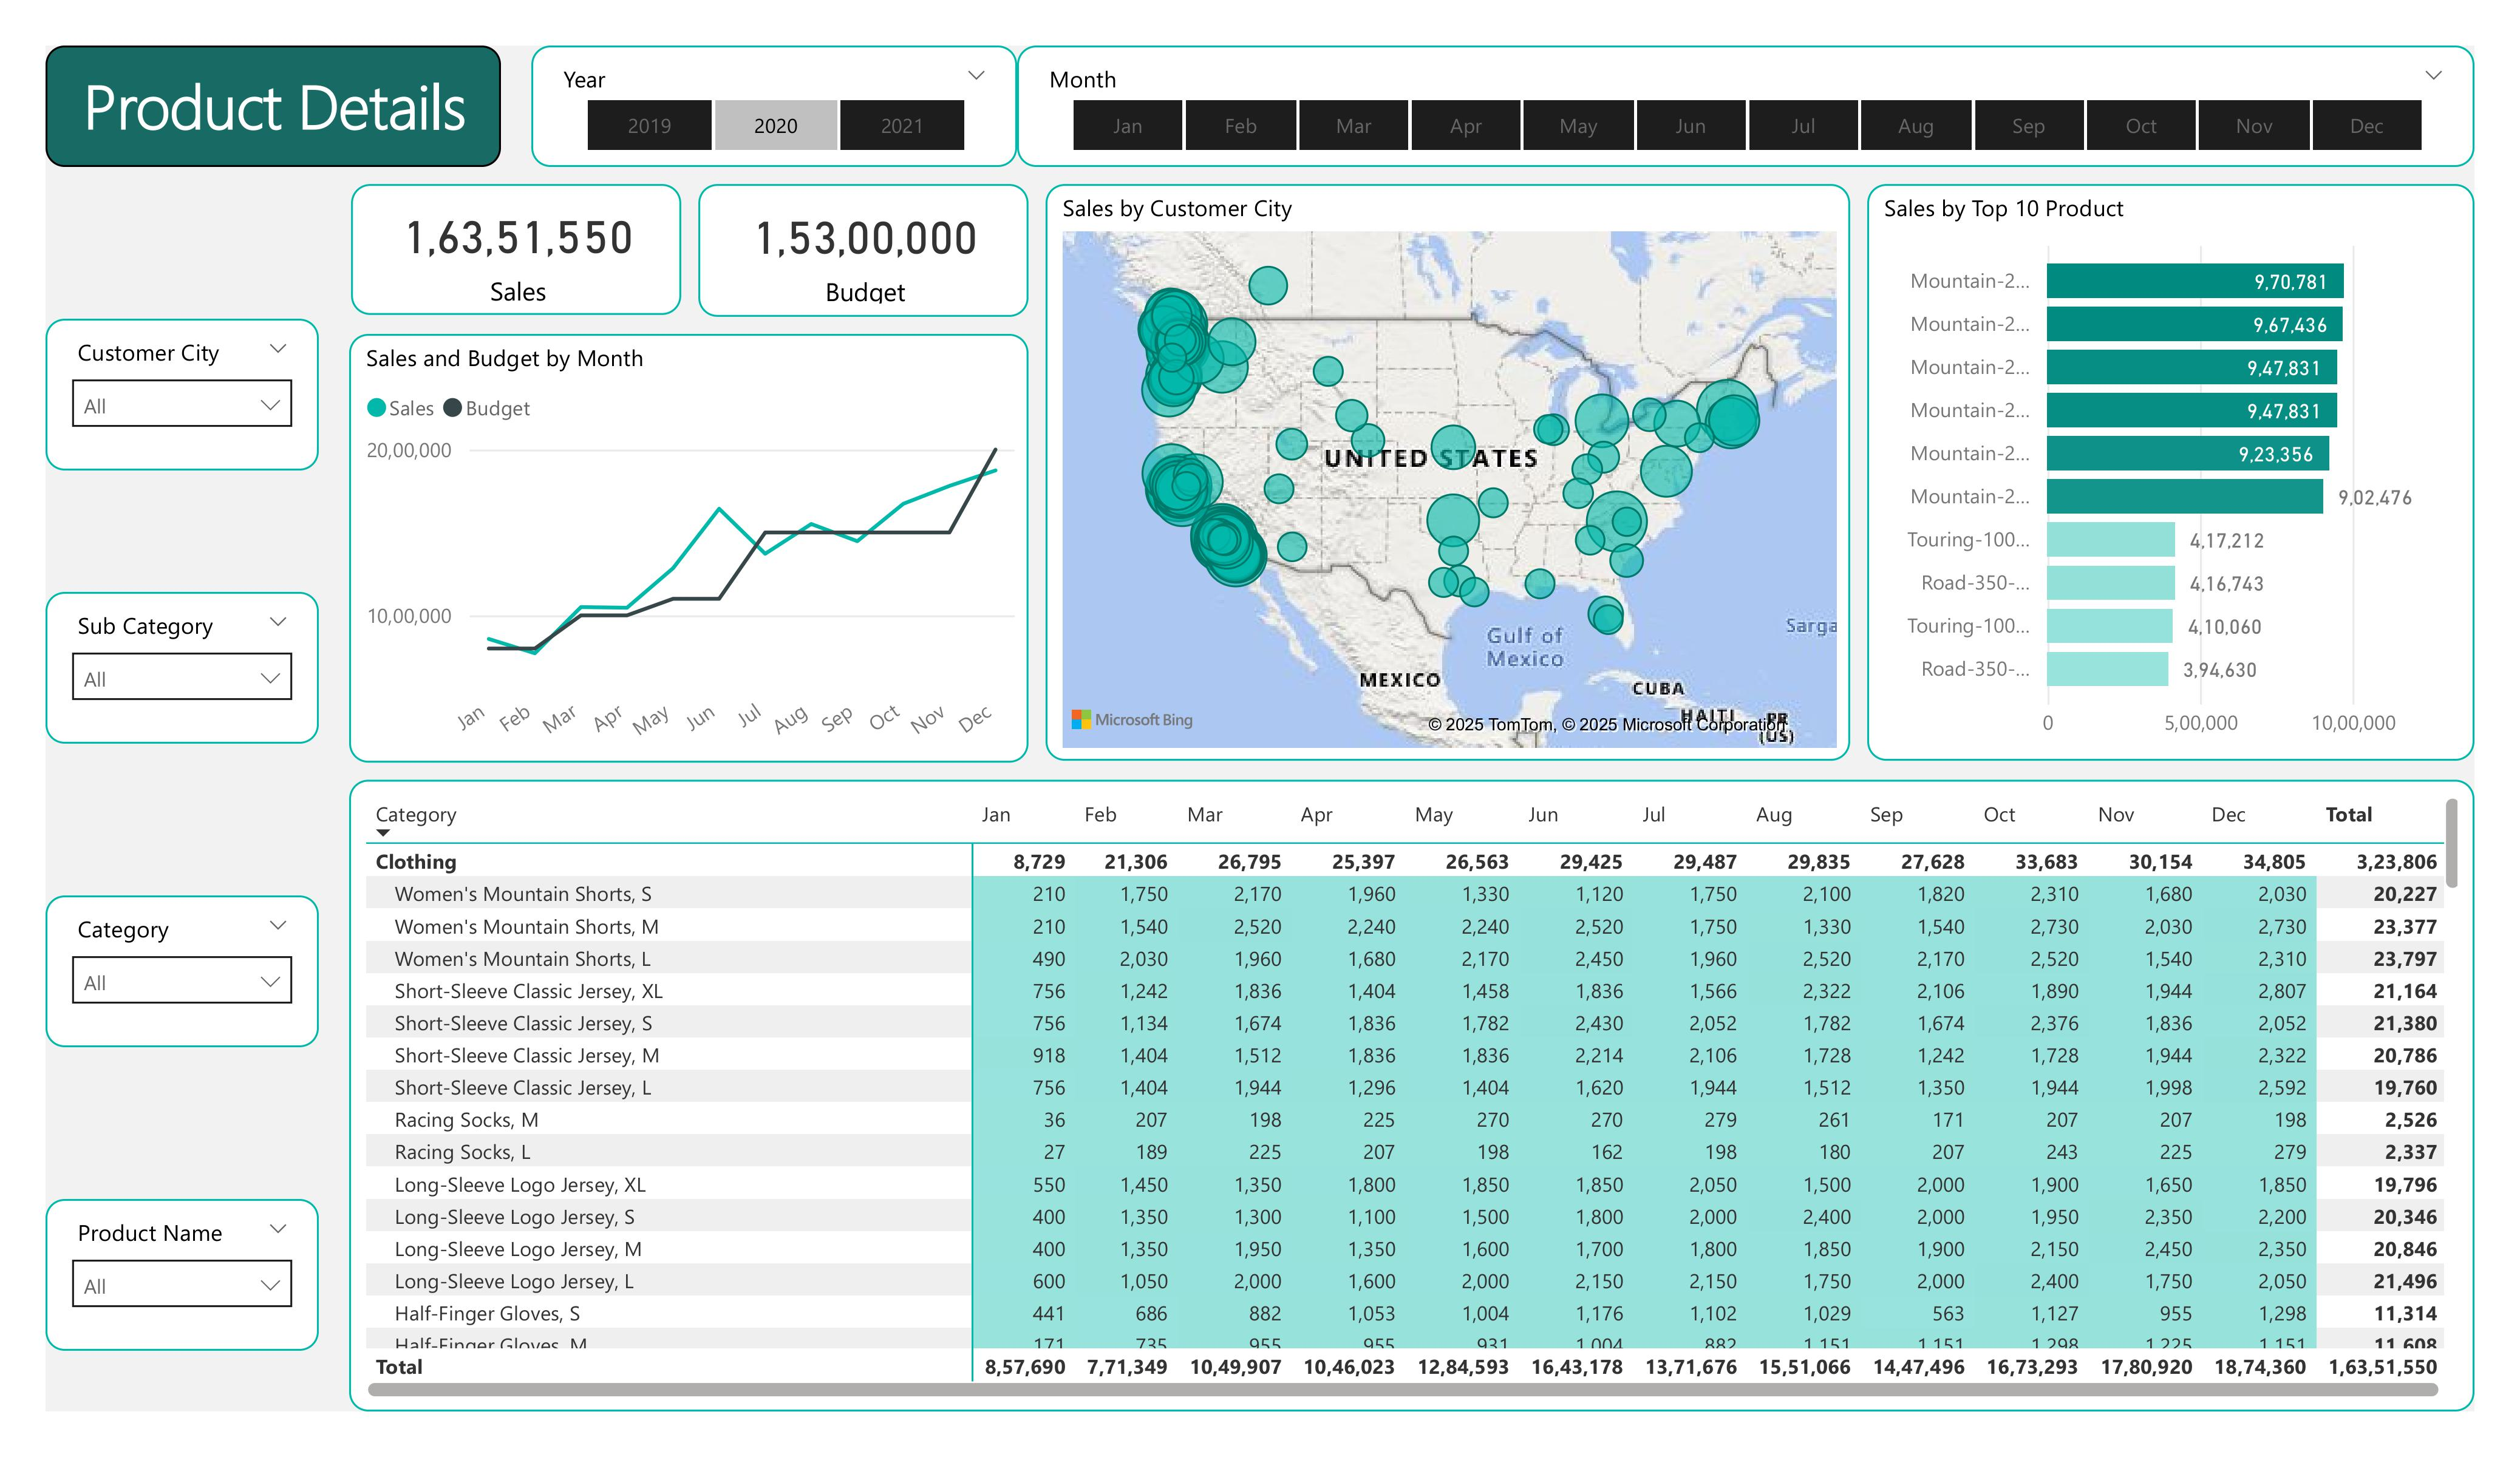

The page's visual inventory and layout, read from the dashboard file:
{"tool":"powerbi","page":{"name":"Product Details","canvas":[1280,720],"ordinal":2},"visuals":[{"type":"textbox","box":[0,0,240,64],"z":0},{"type":"slicer","fields":{"Values":["DIM_Calendar.Year"]},"box":[256,0,256,64],"z":1000},{"type":"slicer","fields":{"Values":["DIM_Calendar.MonthShort"]},"box":[512,0,768,64],"z":2000},{"type":"slicer","fields":{"Values":["DIM_Customers.Customer City"]},"box":[0,144,144,80],"z":3000},{"type":"slicer","fields":{"Values":["DIM_Products.Product Category"]},"box":[0,448,144,80],"z":4000},{"type":"slicer","fields":{"Values":["DIM_Products.Product Name"]},"box":[0,608,144,80],"z":5000},{"type":"slicer","fields":{"Values":["DIM_Products.Sub Category"]},"box":[0,288,144,80],"z":6000},{"type":"lineChart","fields":{"Category":["DIM_Calendar.MonthShort"],"Y":["Analysis Metrics.Sales","Analysis Metrics.Budget"]},"box":[159.8,151.8,358.7,226.4],"z":7000},{"type":"card","fields":{"Values":["Analysis Metrics.Sales"]},"box":[160.7,72.8,174,69.2],"z":8000},{"type":"map","fields":{"Category":["DIM_Customers.Customer City"],"Size":["Analysis Metrics.Sales"]},"box":[527.3,72.8,423.5,304.5],"z":9000},{"type":"card","fields":{"Values":["Analysis Metrics.Budget"]},"box":[343.6,72.8,174.9,70.1],"z":10000},{"type":"pivotTable","fields":{"Rows":["DIM_Products.Product Category","DIM_Products.Product Name"],"Columns":["DIM_Calendar.MonthShort"],"Values":["Analysis Metrics.Sales"]},"box":[159.8,387.1,1120.4,332.9],"z":11000},{"type":"clusteredBarChart","title":"Sales by Top 10 Product","fields":{"Category":["DIM_Products.Product Name"],"Y":["Analysis Metrics.Sales"]},"box":[959.7,72.8,320.5,304.5],"z":12000}]}

Visuals, with their boxes in screenshot pixels (x1, y1, x2, y2):
textbox: Rect(46, 46, 501, 167)
slicer - DIM_Calendar.Year: Rect(531, 46, 1017, 167)
slicer - DIM_Calendar.MonthShort: Rect(1017, 46, 2474, 167)
slicer - DIM_Customers.Customer City: Rect(46, 319, 319, 470)
slicer - DIM_Products.Product Category: Rect(46, 895, 319, 1047)
slicer - DIM_Products.Product Name: Rect(46, 1199, 319, 1351)
slicer - DIM_Products.Sub Category: Rect(46, 592, 319, 744)
lineChart - DIM_Calendar.MonthShort x Analysis Metrics.Sales: Rect(349, 333, 1029, 763)
card - Analysis Metrics.Sales: Rect(350, 183, 681, 315)
map - DIM_Customers.Customer City x Analysis Metrics.Sales: Rect(1046, 183, 1850, 761)
card - Analysis Metrics.Budget: Rect(698, 183, 1029, 317)
pivotTable - DIM_Products.Product Category x DIM_Products.Product Name: Rect(349, 780, 2474, 1411)
"Sales by Top 10 Product" clusteredBarChart: Rect(1867, 183, 2474, 761)
